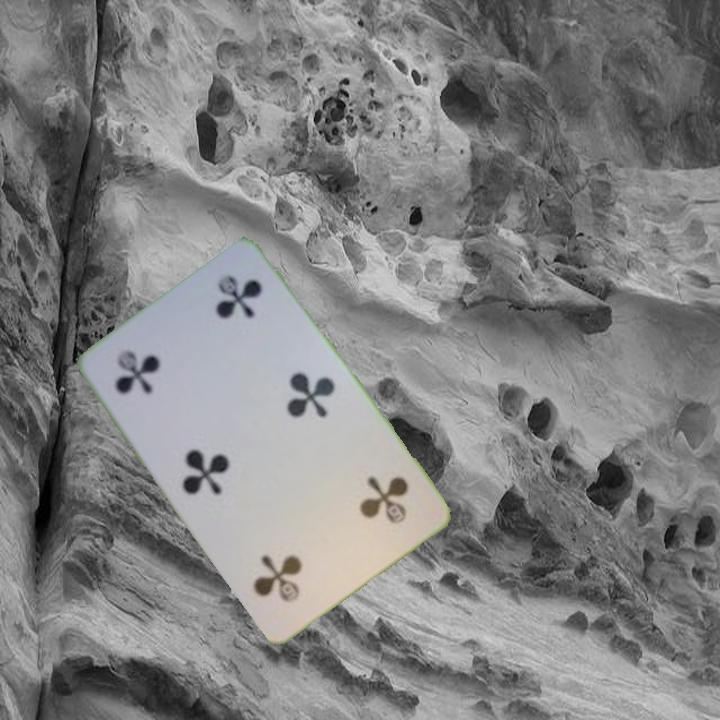c_6.png: (91, 308, 220, 434), (305, 445, 434, 571)
